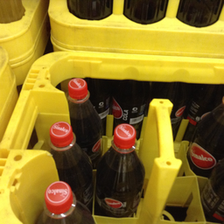soda: (95, 123, 146, 214), (48, 121, 94, 208), (65, 78, 104, 158)
